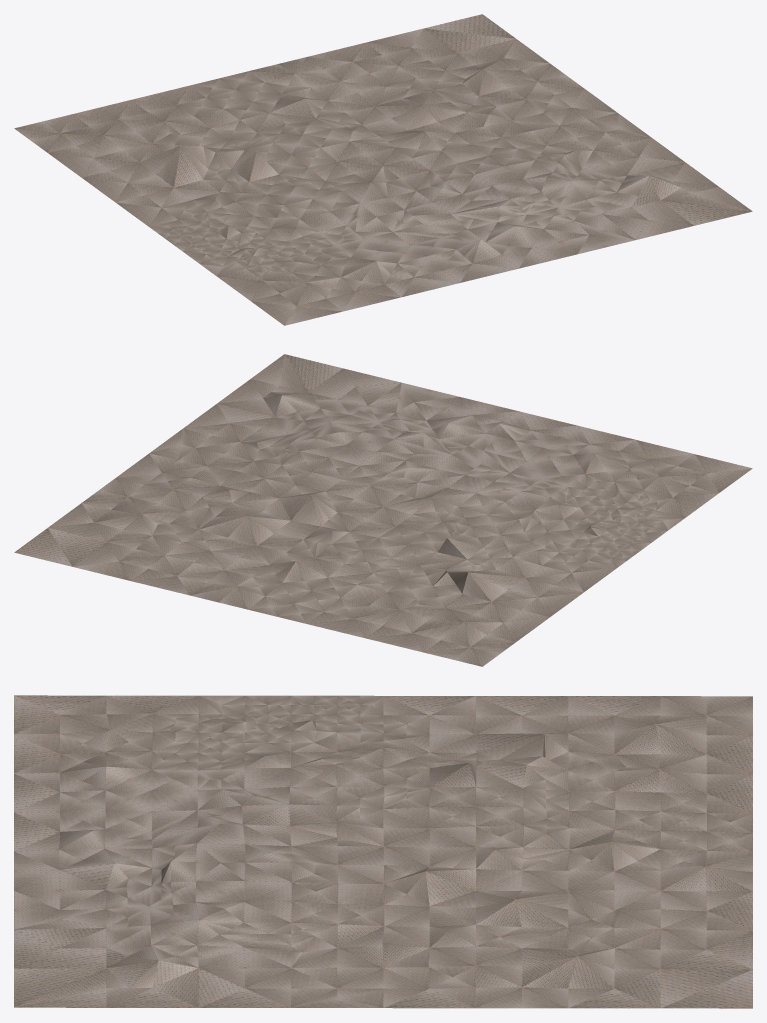
The model's file is topologylevel2.glb.
3 renders of one model, top to bottom at view 1: azimuth 30°, elevation 25°; view 2: azimuth 150°, elevation 25°; view 3: azimuth 270°, elevation 25°, orthographic. The views are drawn at different scales.
Parts seen in each view (by area): view 1: Plane; view 2: Plane; view 3: Plane.
Part boxes in pixels (x1=…): Plane: x1=14, y1=14, x2=752, y2=325; Plane: x1=14, y1=354, x2=752, y2=666; Plane: x1=14, y1=695, x2=752, y2=1008.
Size of what is drawn, in the model's own units: 32 by 1.26 by 32.
1 material, 1 textured.
